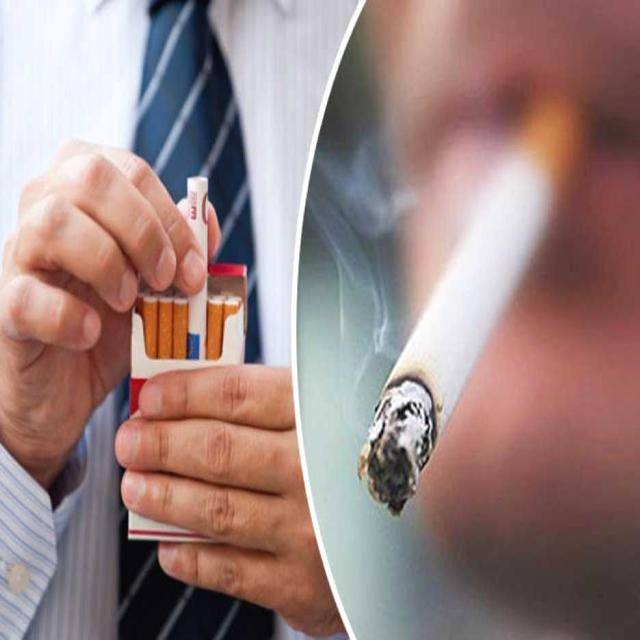Smooking: (328, 94, 581, 559)
